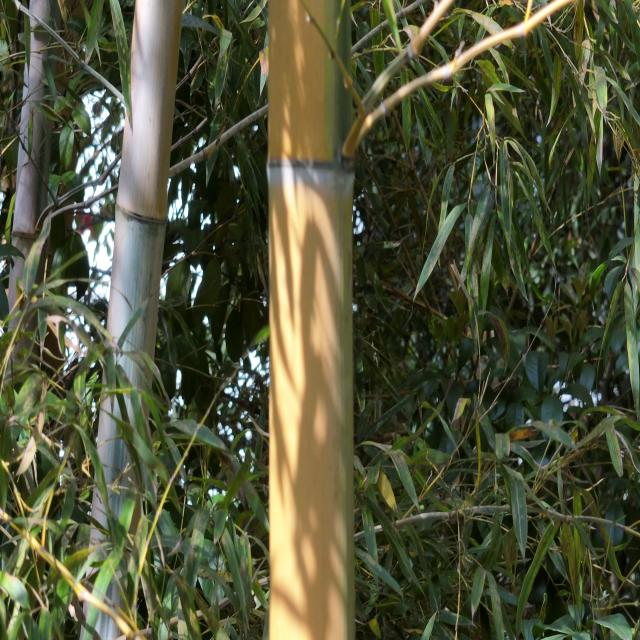Bamboo-shoots: (268, 0, 354, 640)
